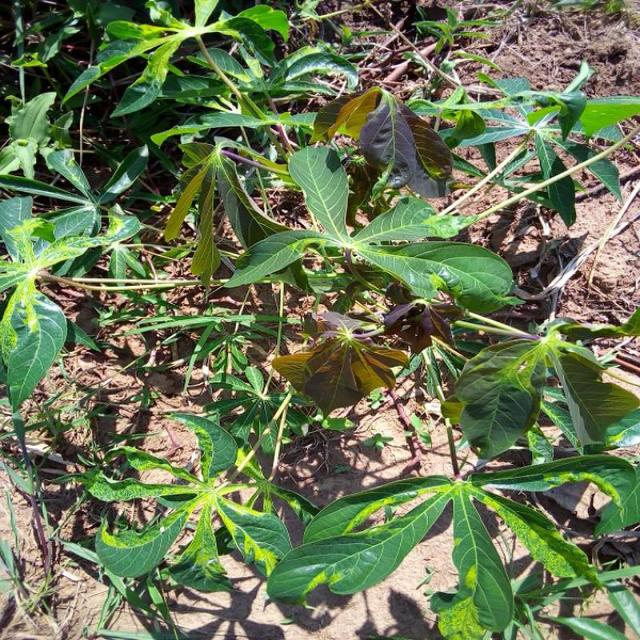cassava leaf: (272, 313, 410, 416)
